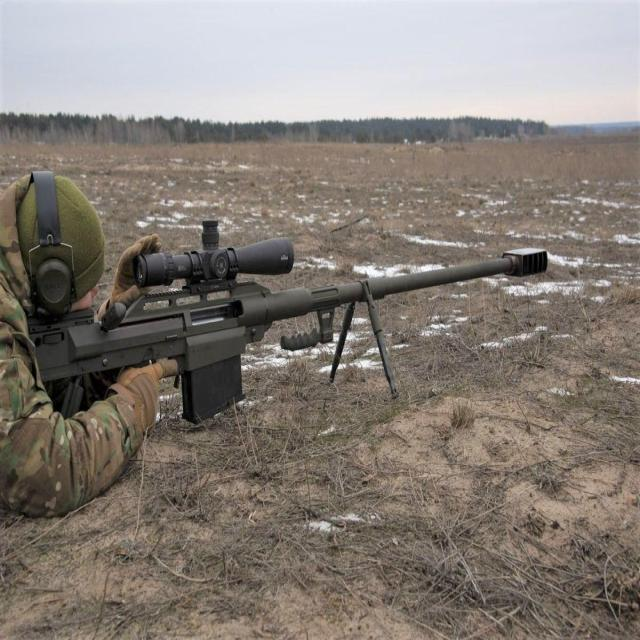weapon: (15, 217, 559, 428)
